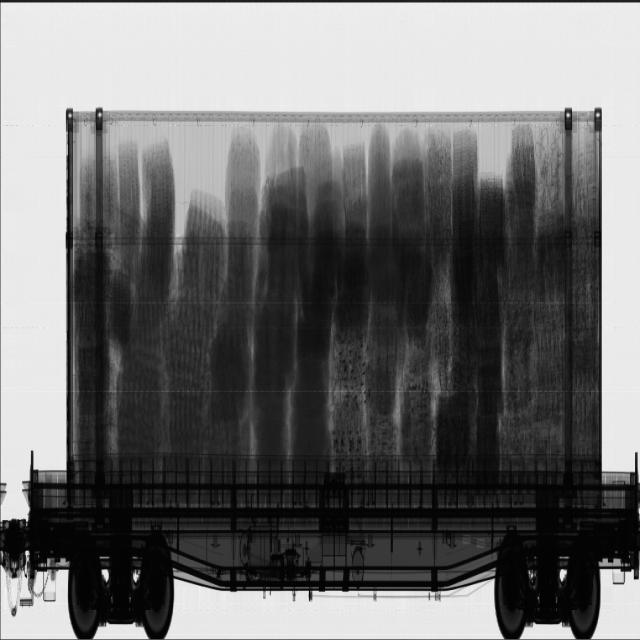textiles: (252, 162, 432, 454)
